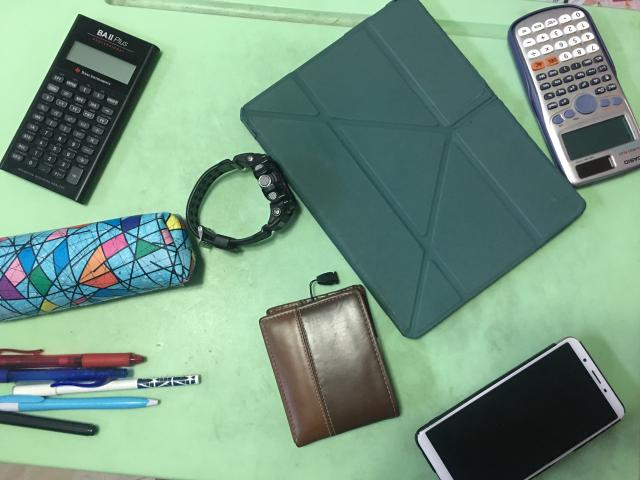Mobile phone: (414, 338, 626, 480)
Pen: (0, 352, 201, 439)
Wallet: (258, 286, 403, 449)
Watch: (184, 155, 302, 254)
